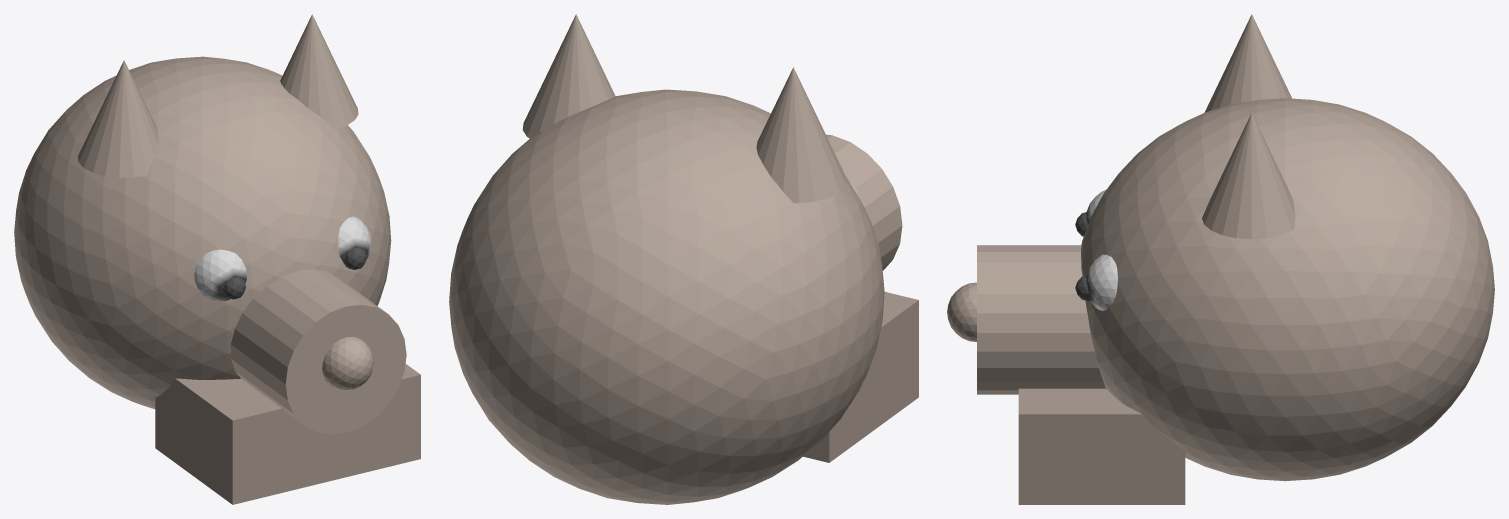
The model's file is watchdog_head.glb.
The picture shows the model from 3 angles, left to right: view 1: azimuth 30°, elevation 25°; view 2: azimuth 150°, elevation 25°; view 3: azimuth 270°, elevation 25°; orthographic projection. The views are drawn at different scales.
Parts seen in each view (by area): view 1: Head, Jaw, RightEye, LeftEye; view 2: Head, Jaw; view 3: Head, Jaw, LeftEye.
Part boxes in pixels (box(x1,y1,x2,y2)): Head: box(14, 14, 406, 434); Jaw: box(155, 364, 420, 504); RightEye: box(194, 249, 246, 301); LeftEye: box(338, 216, 371, 269); Head: box(449, 14, 902, 504); Jaw: box(803, 292, 918, 462); Head: box(947, 14, 1494, 481); Jaw: box(1018, 388, 1185, 504); LeftEye: box(1075, 254, 1117, 310).
Bounding box in the file's own units: 0.24 × 0.264 × 0.329.
